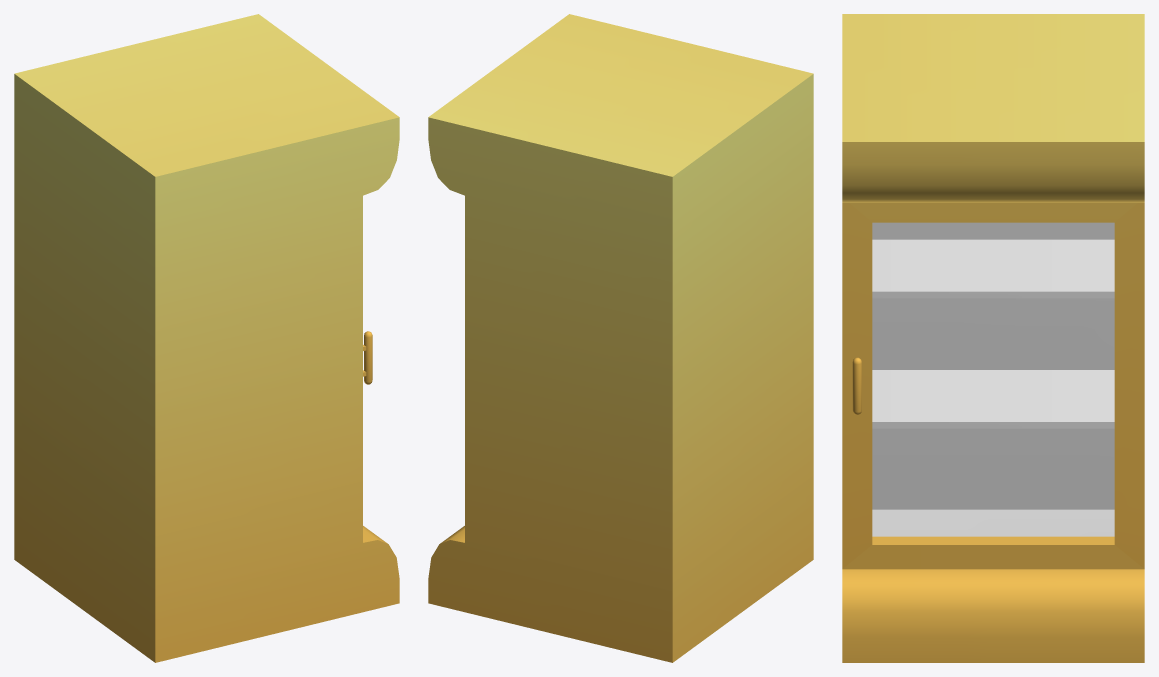
The model's file is Fridge01.fbx.
3 renders of one model, left to right at view 1: azimuth 30°, elevation 25°; view 2: azimuth 150°, elevation 25°; view 3: azimuth 270°, elevation 25°, orthographic. The views are drawn at different scales.
Visible parts, largest first — view 1: Fridge; view 2: Fridge; view 3: Fridge.
Part boxes in pixels (x1,y1,x2,y2): Fridge: (14,14,399,662); Fridge: (428,14,813,662); Fridge: (842,14,1144,662).
Size of the model in its own units: 40 by 76 by 40.
